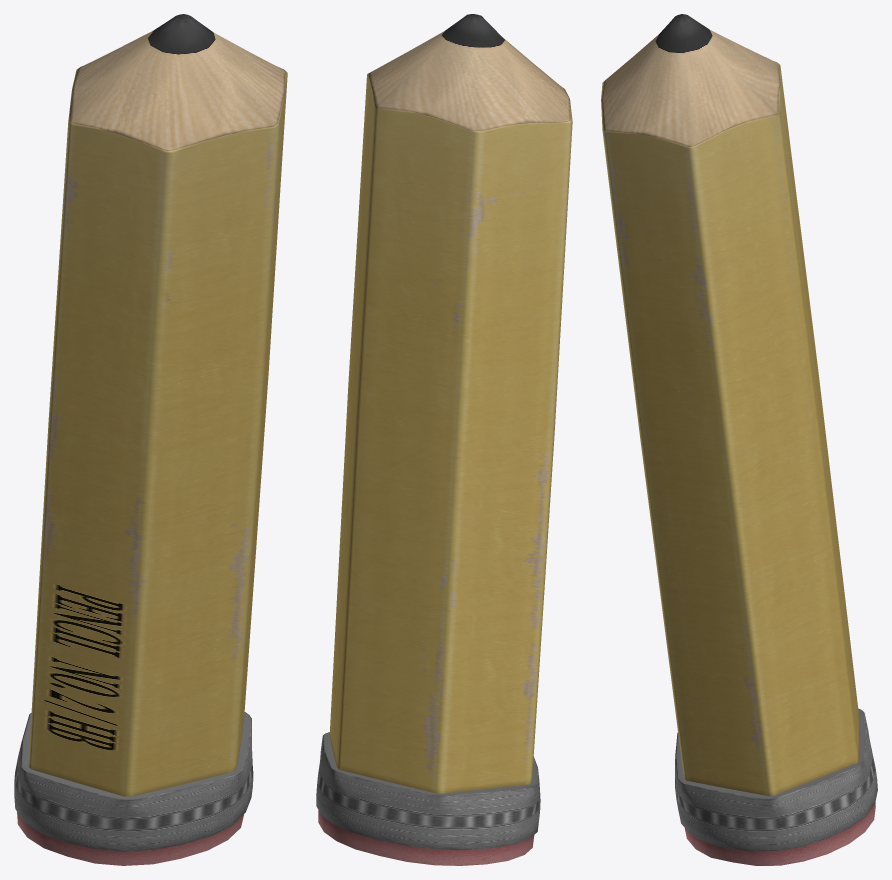
3 renders of one model, left to right at view 1: azimuth 30°, elevation 25°; view 2: azimuth 150°, elevation 25°; view 3: azimuth 270°, elevation 25°, orthographic. The views are drawn at different scales.
Visible parts, largest first — view 1: node_id38; view 2: node_id38; view 3: node_id38.
Part boxes in pixels (x1,y1,x2,y2): node_id38: (14,14,287,865); node_id38: (316,14,572,865); node_id38: (601,14,877,865).
Size of the model in its own units: 1.07 by 3.83 by 1.19.
1 material, 1 textured.
